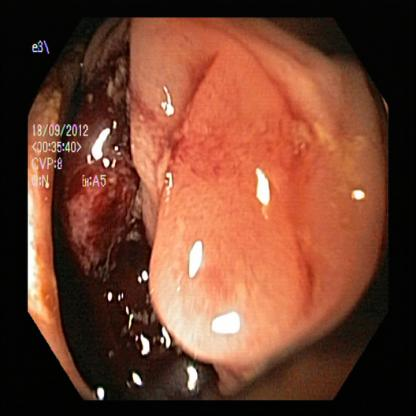Labels: (32, 40, 110, 197)
Polyps: (124, 32, 372, 360)
